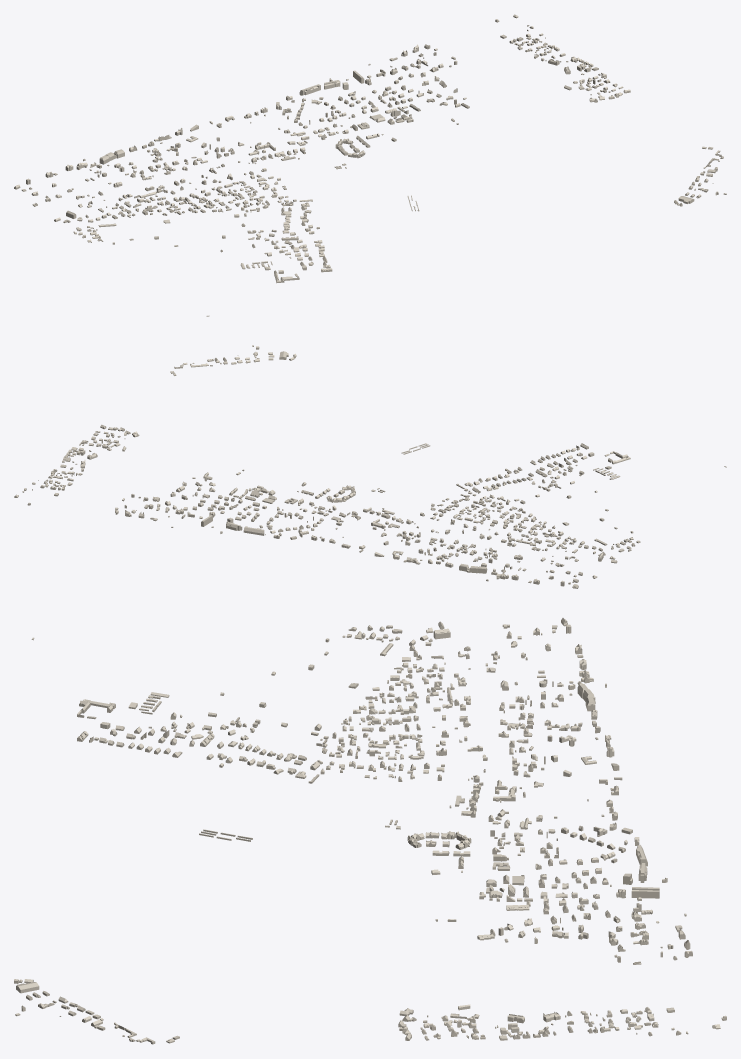
The picture shows the model from 3 angles, top to bottom: view 1: azimuth 30°, elevation 25°; view 2: azimuth 150°, elevation 25°; view 3: azimuth 270°, elevation 25°; orthographic projection. The views are drawn at different scales.
Size of the model in its own units: 1793 by 28.67 by 1287.
